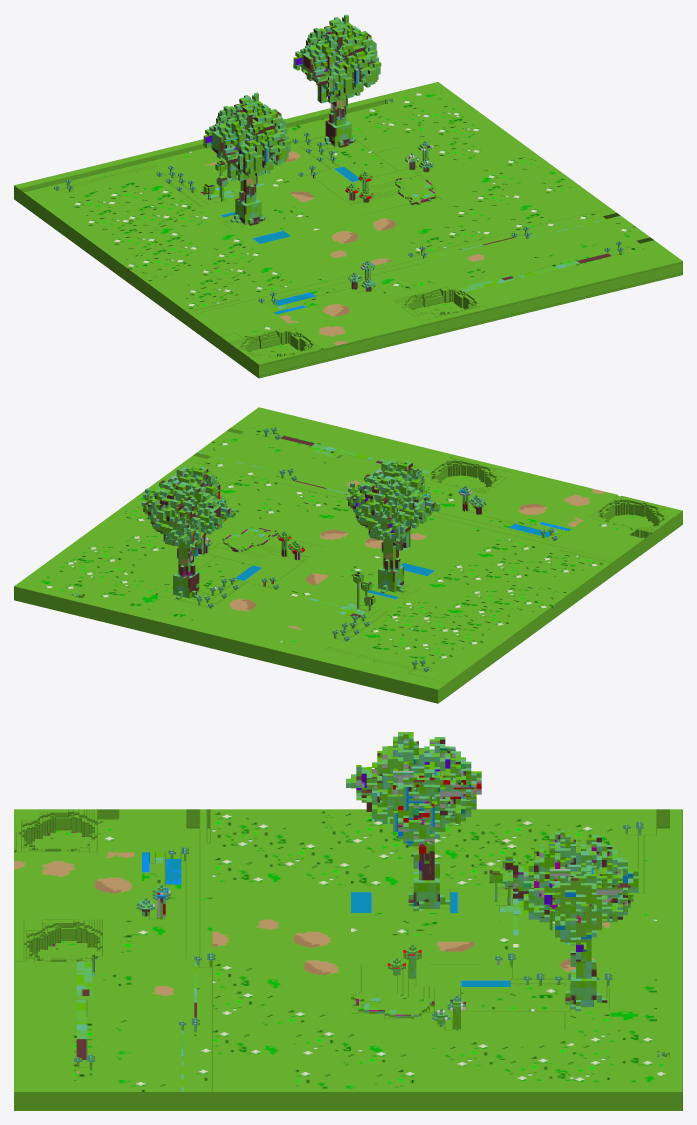
The model's file is Pradera3.obj.
The picture shows the model from 3 angles, top to bottom: view 1: azimuth 30°, elevation 25°; view 2: azimuth 150°, elevation 25°; view 3: azimuth 270°, elevation 25°; orthographic projection. The views are drawn at different scales.
Parts seen in each view (by area): view 1: Model; view 2: Model; view 3: Model.
Part boxes in pixels (x1,y1,x2,y2): Model: (14, 14, 682, 378); Model: (14, 407, 682, 703); Model: (14, 732, 682, 1110).
Bounding box in the file's own units: 32 × 9.62 × 32.
Materials: 1 (1 with a texture image).
